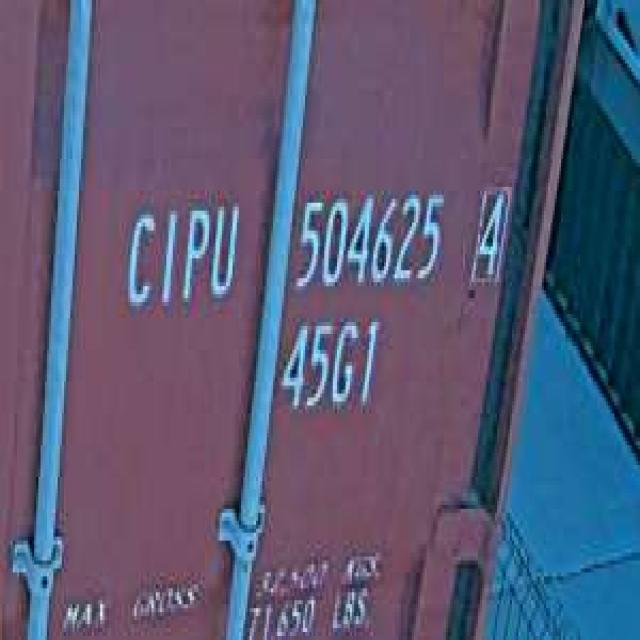dv: (467, 175, 512, 298)
owner: (118, 187, 244, 318)
serial: (290, 175, 448, 298)
size: (277, 306, 384, 421)
